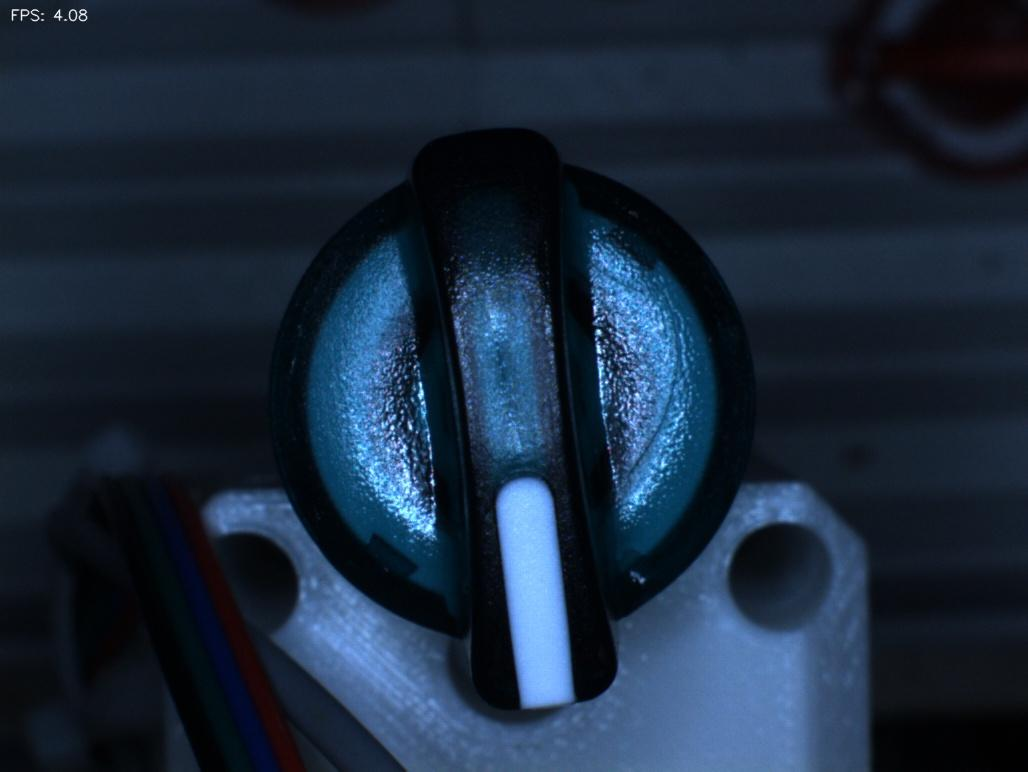Choc: (603, 523, 676, 610)
